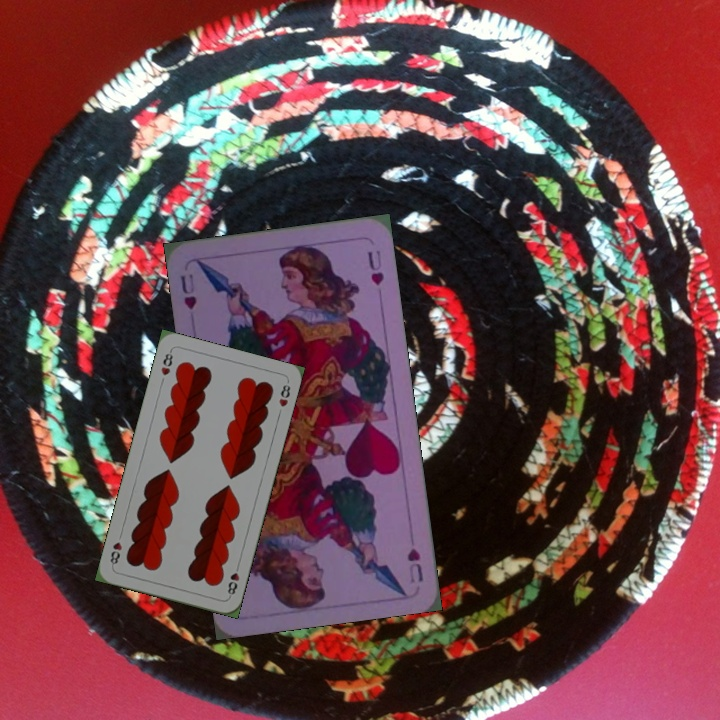H8: (223, 560, 242, 600), (157, 346, 175, 378)
HU: (176, 270, 199, 312), (403, 544, 426, 586)
